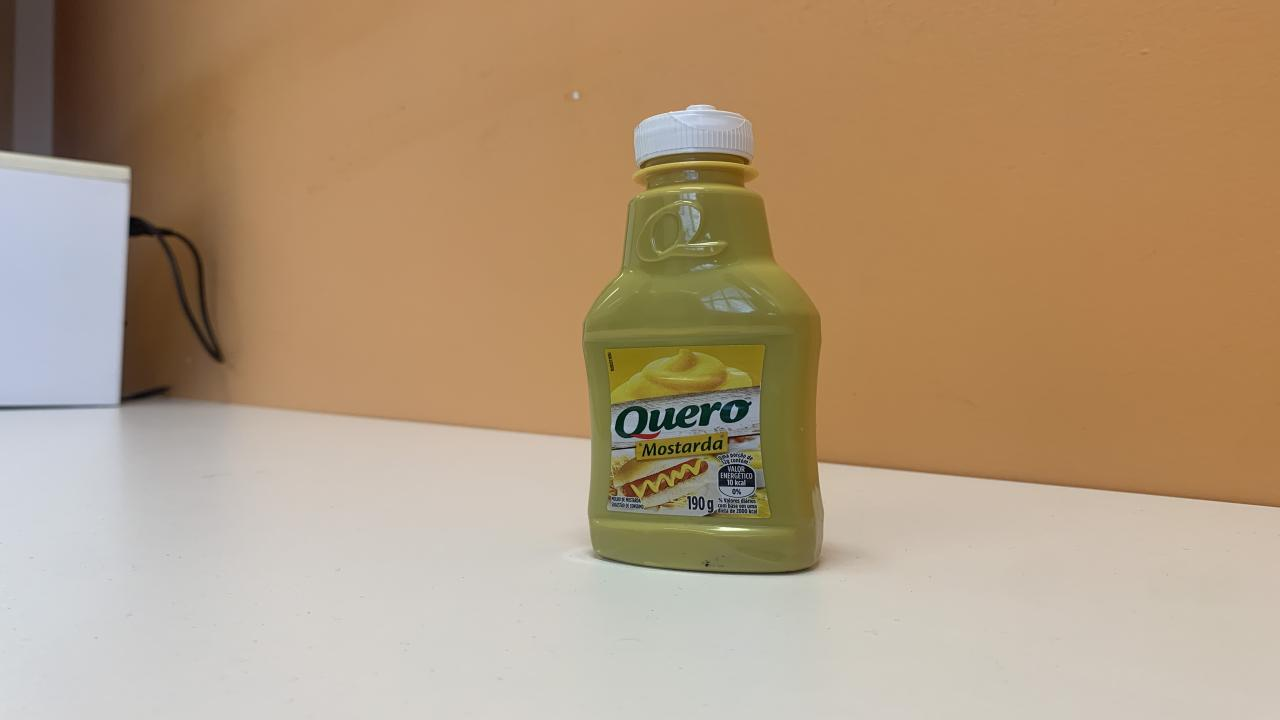Mustard-Pantry_Items: (578, 105, 824, 578)
